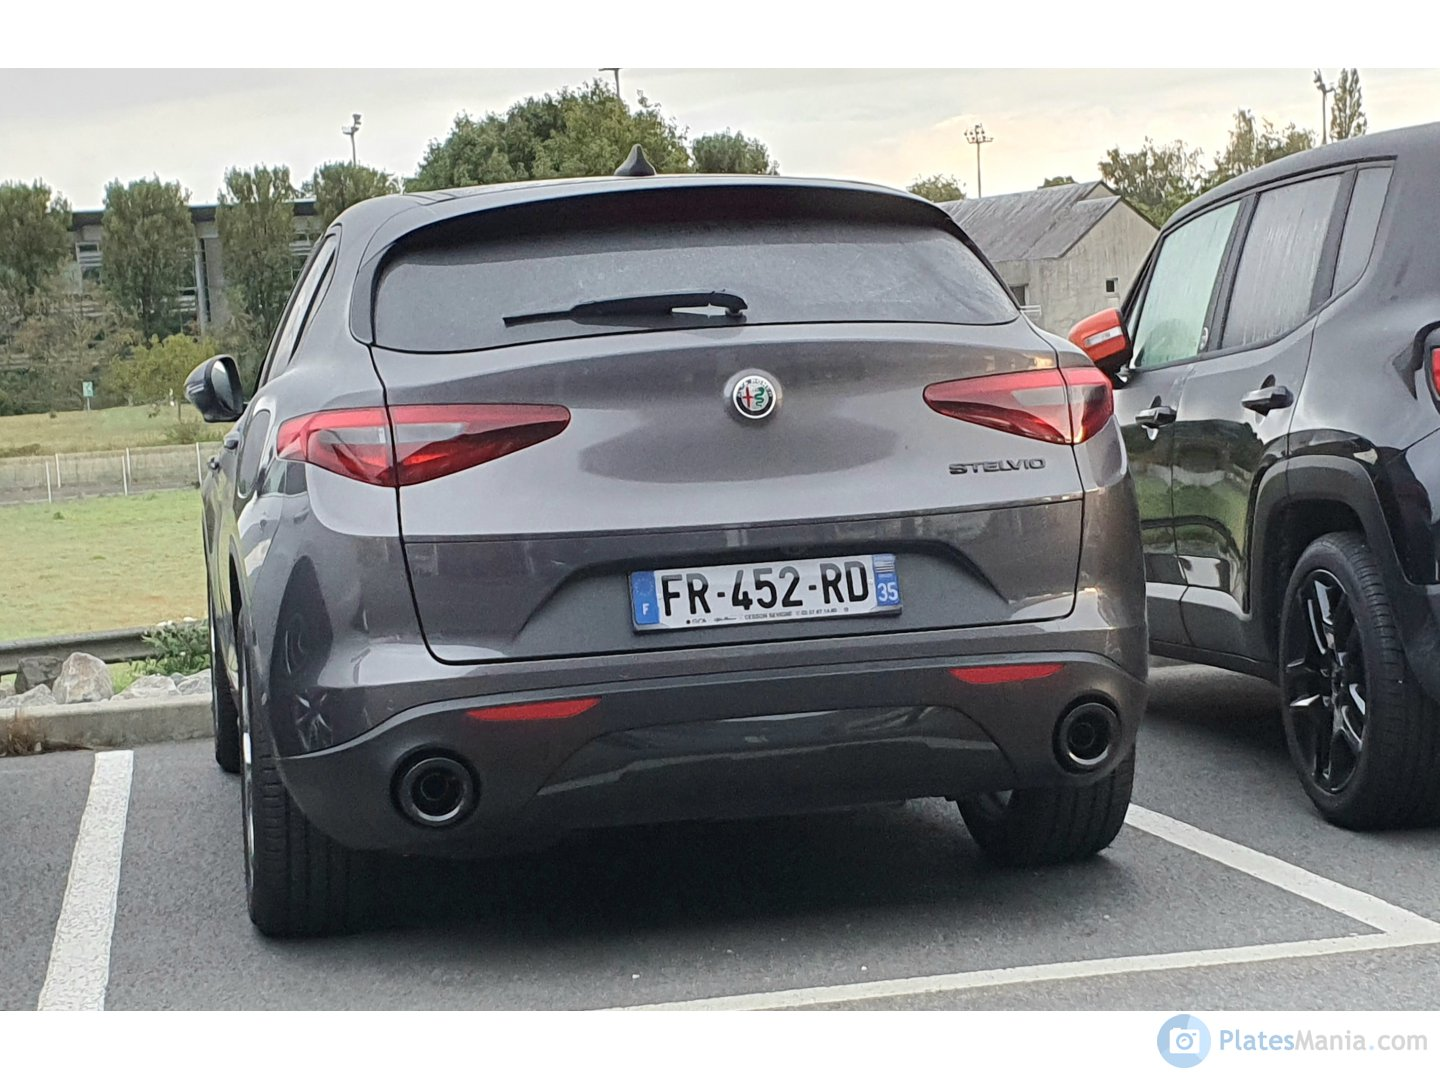licence plate: (621, 547, 904, 639)
